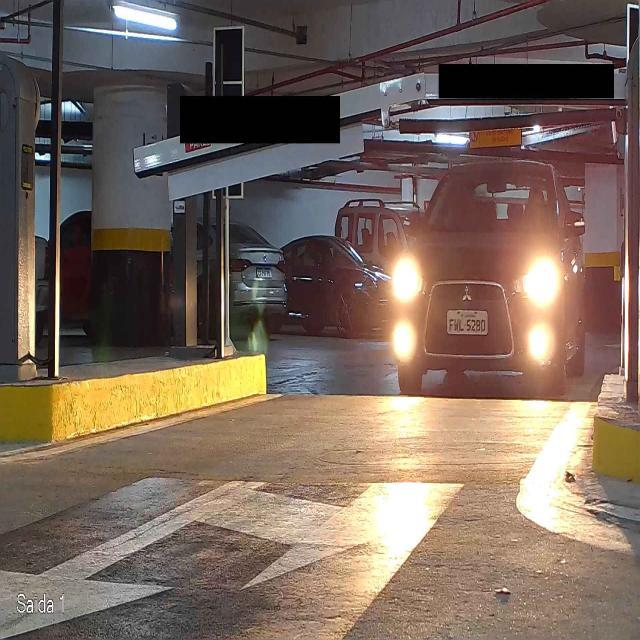old_plate: (446, 309, 489, 336)
